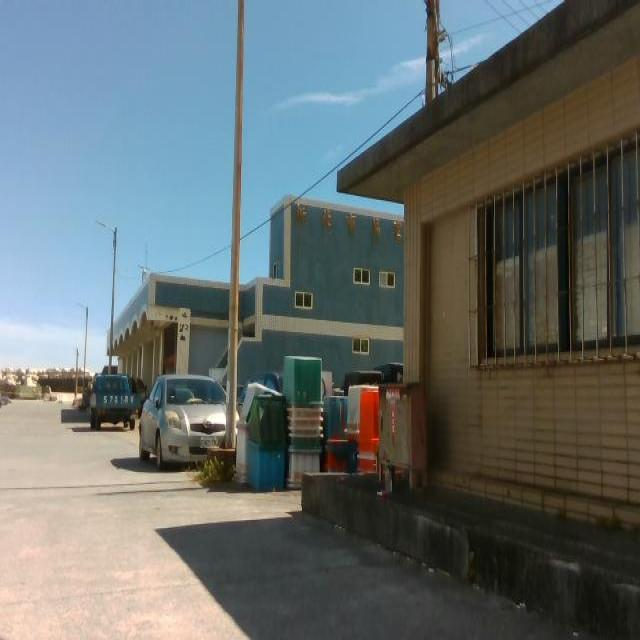pollute: (233, 353, 377, 495)
